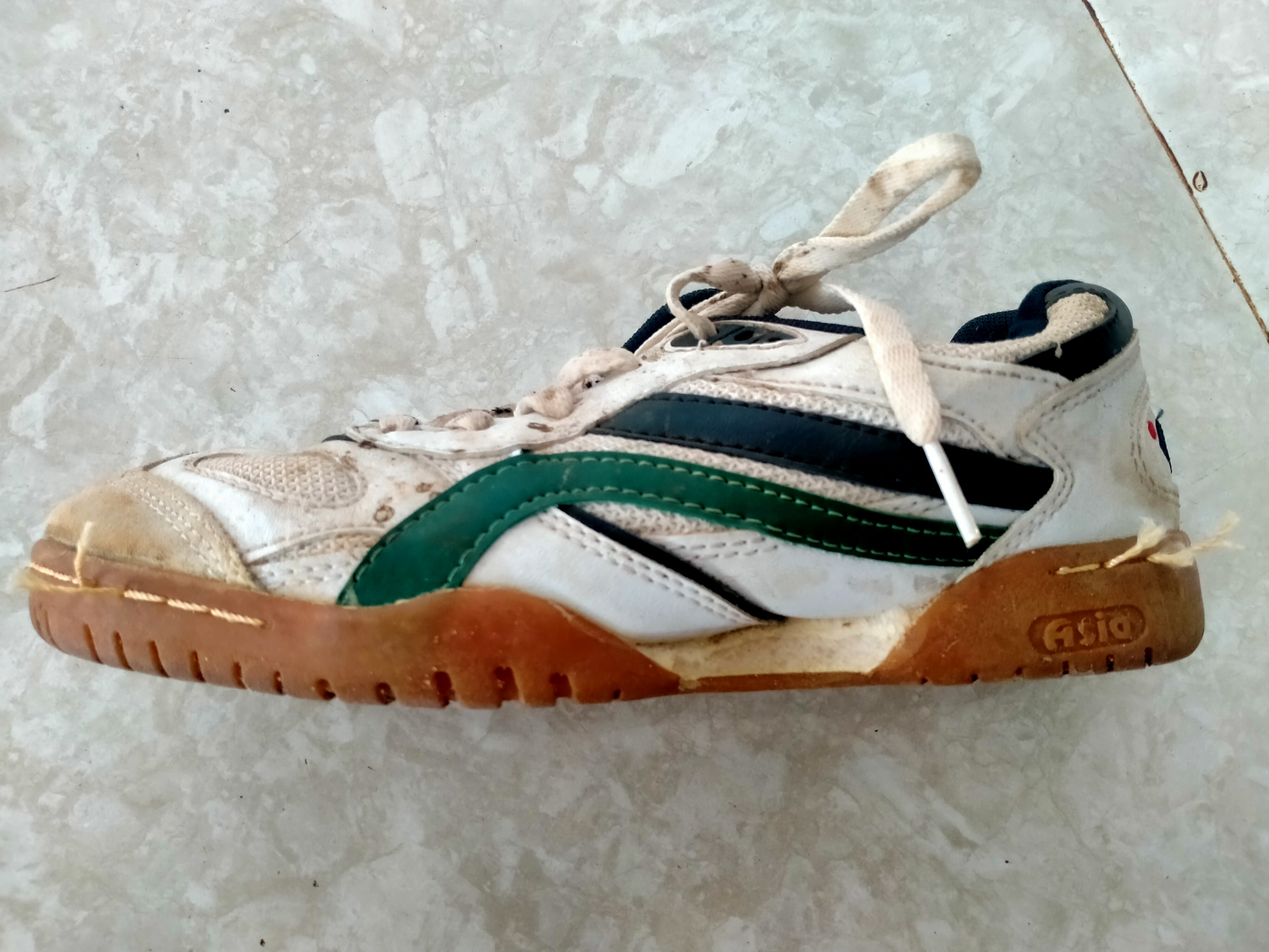broken: (40, 558, 145, 607), (1098, 536, 1206, 575)
